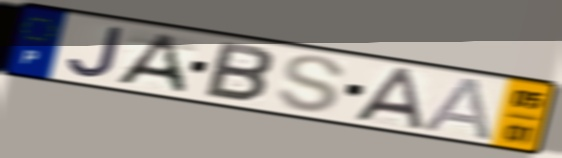A: (420, 75, 495, 143), (111, 31, 189, 96), (351, 65, 426, 131)
B: (201, 39, 277, 106)
J: (64, 24, 128, 80)
S: (274, 53, 348, 115)
